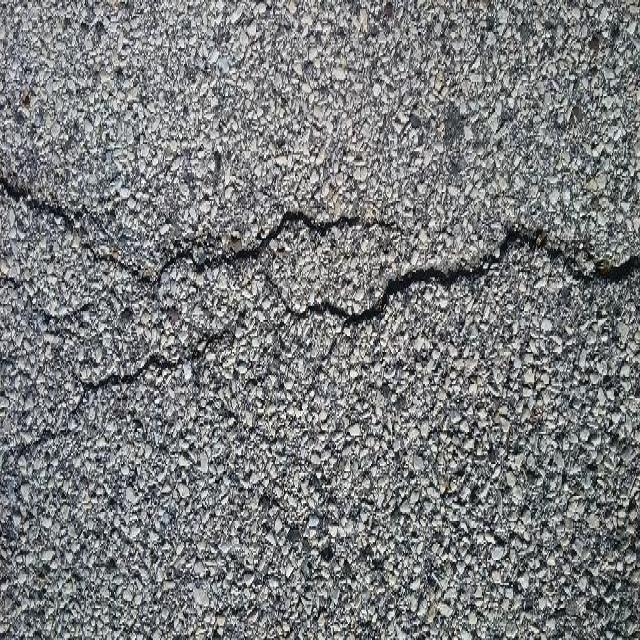GRIETA: (0, 309, 252, 458), (264, 226, 639, 323), (0, 174, 157, 286), (195, 212, 402, 273)
